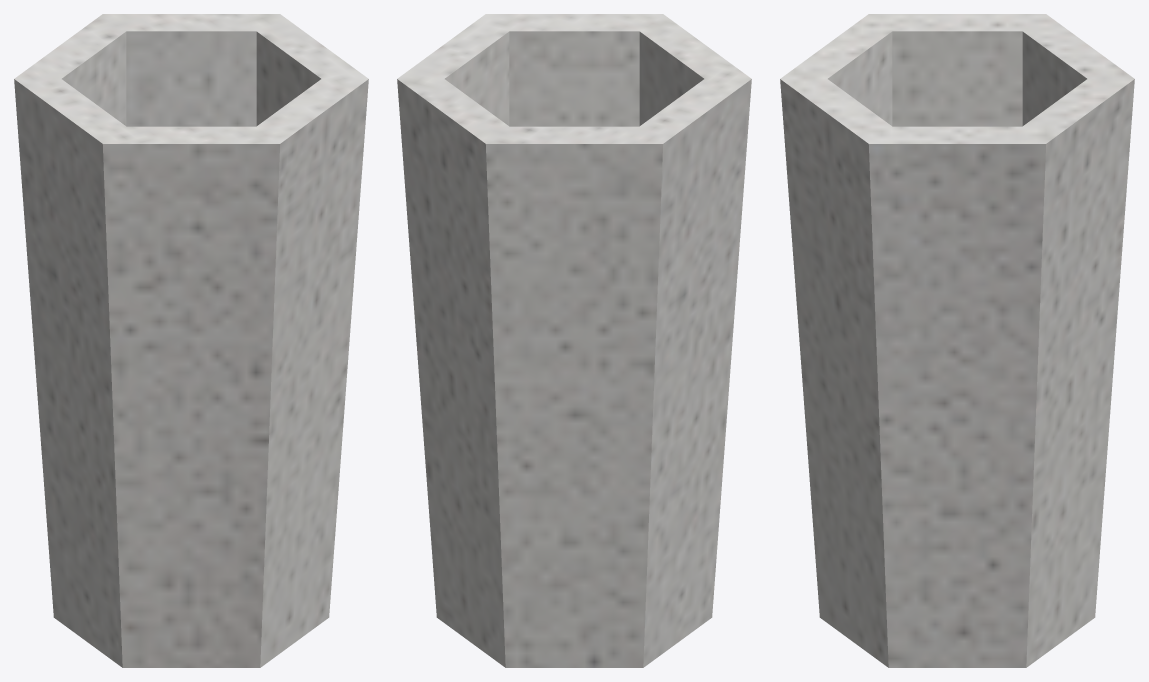
Rendered from glass.fbx.
3 renders of one model, left to right at view 1: azimuth 30°, elevation 25°; view 2: azimuth 150°, elevation 25°; view 3: azimuth 270°, elevation 25°, orthographic.
Visible parts, largest first — view 1: Cylinder; view 2: Cylinder; view 3: Cylinder.
Boxes of the visible parts, x1,y1,x2,y2 form: Cylinder: [14, 14, 368, 667]; Cylinder: [397, 14, 751, 667]; Cylinder: [780, 14, 1134, 667].
Bounding box in the file's own units: 173 × 335 × 200.
